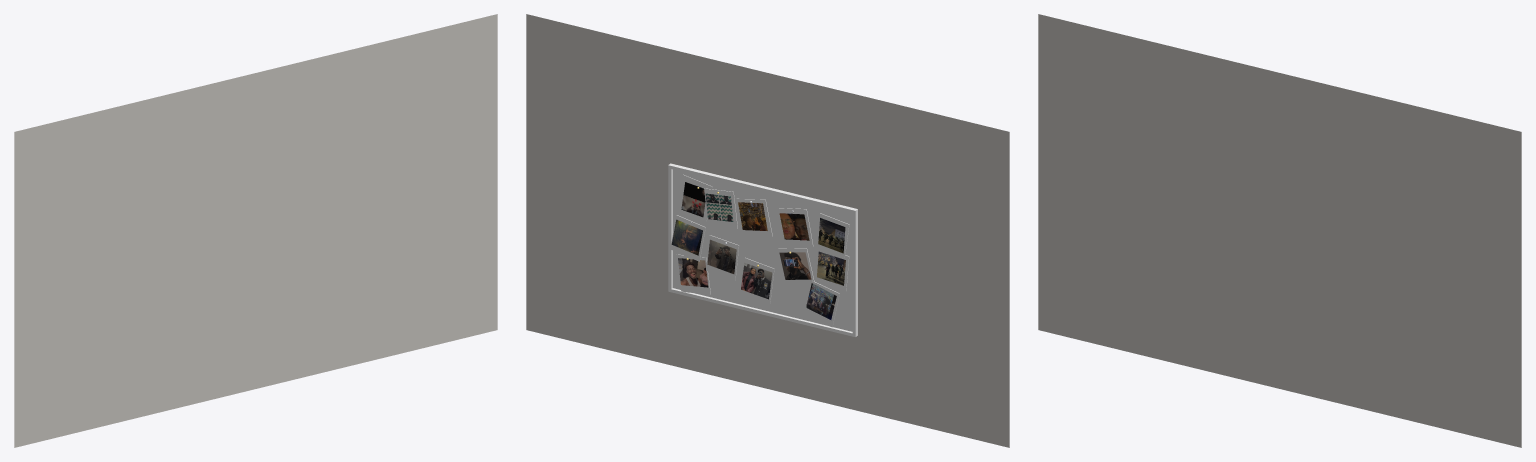
Rendered from PinBoard1.1.glb.
3 renders of one model, left to right at view 1: azimuth 30°, elevation 25°; view 2: azimuth 150°, elevation 25°; view 3: azimuth 330°, elevation 25°, orthographic.
Parts seen in each view (by area): view 1: Wall; view 2: Wall, Cork_Board, Frame_Top, Frame_Bottom, ImgPlane_10_10, ImgPlane_07_7, ImgPlane_05_5, ImgPlane_09_9, ImgPlane_12_12, ImgPlane_11_11, Frame_Left, ImgPlane_03_3 (+12 smaller); view 3: Wall.
Boxes of the visible parts, x1,y1,x2,y2 form: Wall: (14,14,497,447); Wall: (526,14,1009,447); Cork_Board: (673,169,852,331); Frame_Top: (668,163,857,213); Frame_Bottom: (668,288,857,337); ImgPlane_10_10: (741,263,772,299); ImgPlane_07_7: (671,219,702,255); ImgPlane_05_5: (678,258,708,287); ImgPlane_09_9: (817,251,845,285); ImgPlane_12_12: (779,252,811,279); ImgPlane_11_11: (707,239,736,273); Frame_Left: (852,212,857,333); ImgPlane_03_3: (738,202,767,230); Wall: (1038,14,1521,447).
Size of the model in its own units: 16 by 10 by 0.5234.
18 materials, 12 textured.
